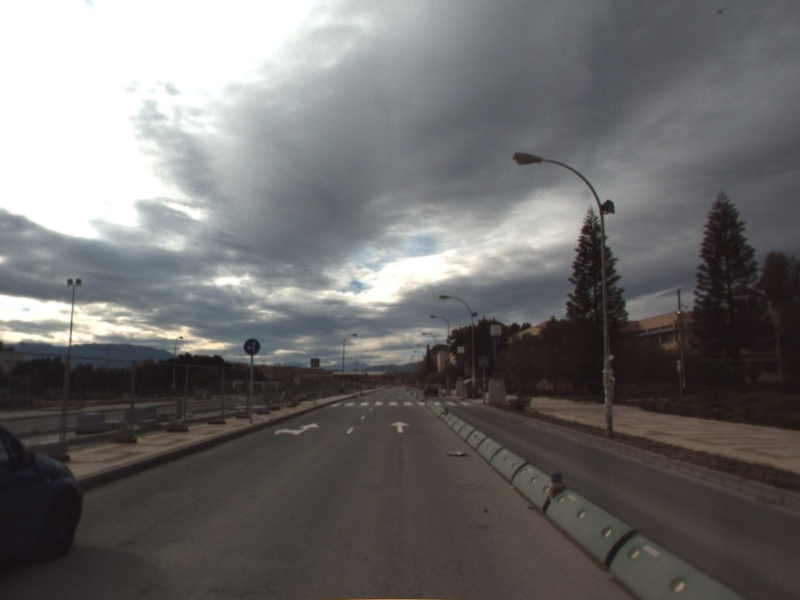STRAIGHT: (388, 419, 413, 434)
STRAIGHT_LEFT: (272, 420, 321, 438)
